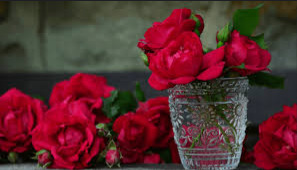RedRose: (34, 102, 104, 170), (149, 38, 215, 89), (49, 74, 113, 124), (0, 88, 45, 153), (224, 38, 278, 74), (137, 95, 173, 148), (113, 114, 156, 154)
